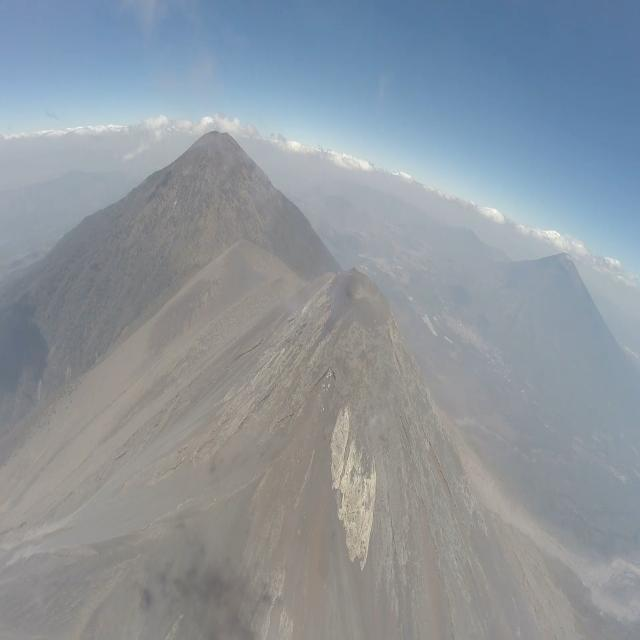Summit: (266, 256, 470, 571)
